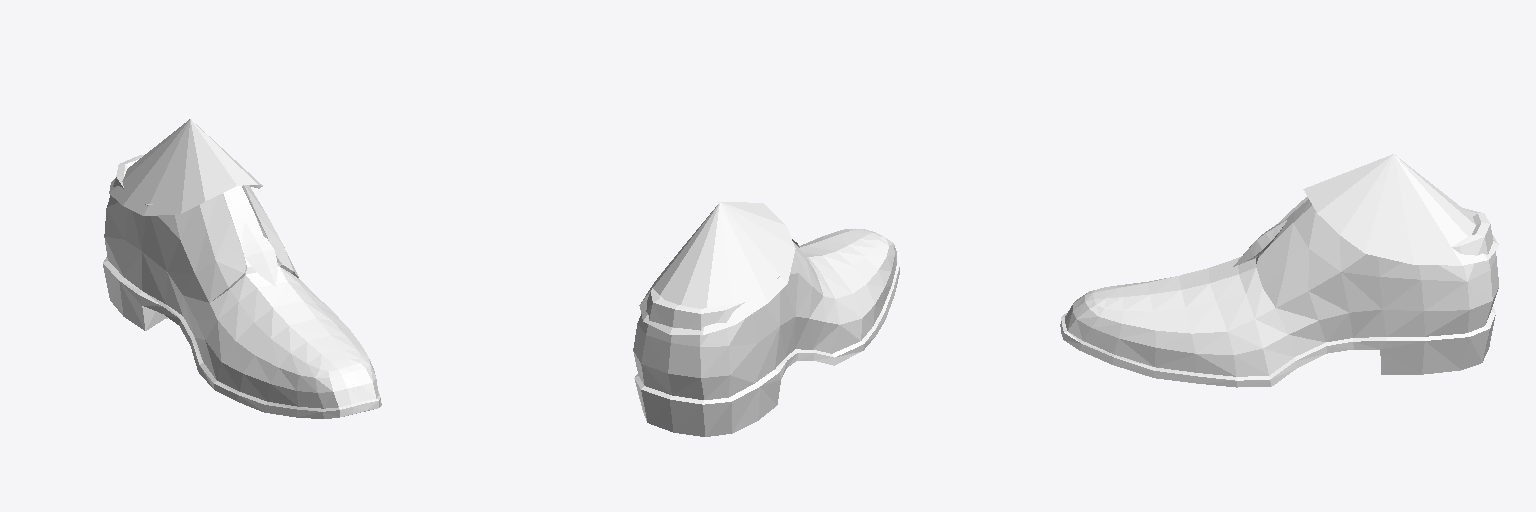
Rendered from Blade_PieIzq.obj.
3 renders of one model, left to right at view 1: azimuth 30°, elevation 25°; view 2: azimuth 150°, elevation 25°; view 3: azimuth 270°, elevation 25°, orthographic.
Parts seen in each view (by area): view 1: Pie_Izq; view 2: Pie_Izq; view 3: Pie_Izq.
Boxes of the visible parts, box(x1,y1,x2,y2) form: Pie_Izq: box(103, 119, 381, 418); Pie_Izq: box(633, 202, 899, 436); Pie_Izq: box(1060, 154, 1498, 387).
Size of the model in its own units: 0.5162 by 0.6972 by 1.42.